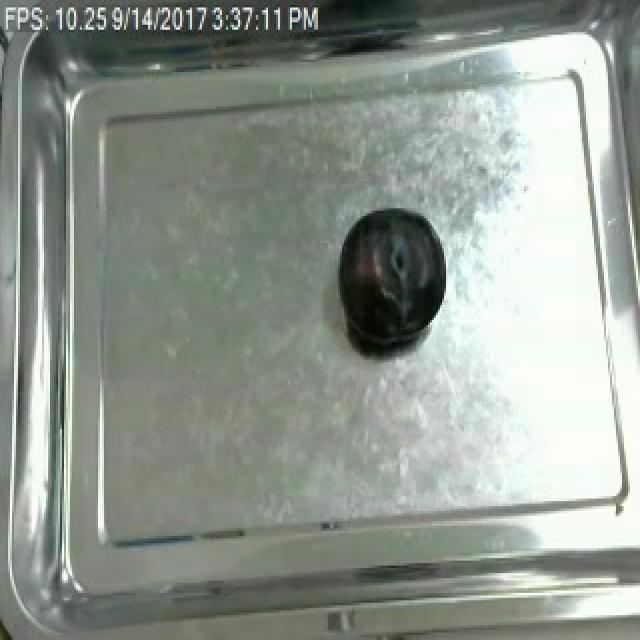Fruit: (332, 201, 452, 355)
